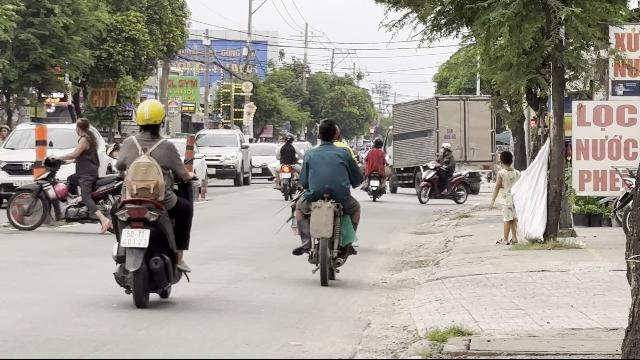helmet: (134, 99, 166, 133)
licenseplate: (120, 228, 150, 248)
motorcyclist: (107, 94, 195, 307), (6, 114, 122, 234), (284, 118, 364, 282)
nohelmet: (316, 119, 338, 143), (74, 116, 90, 136)
